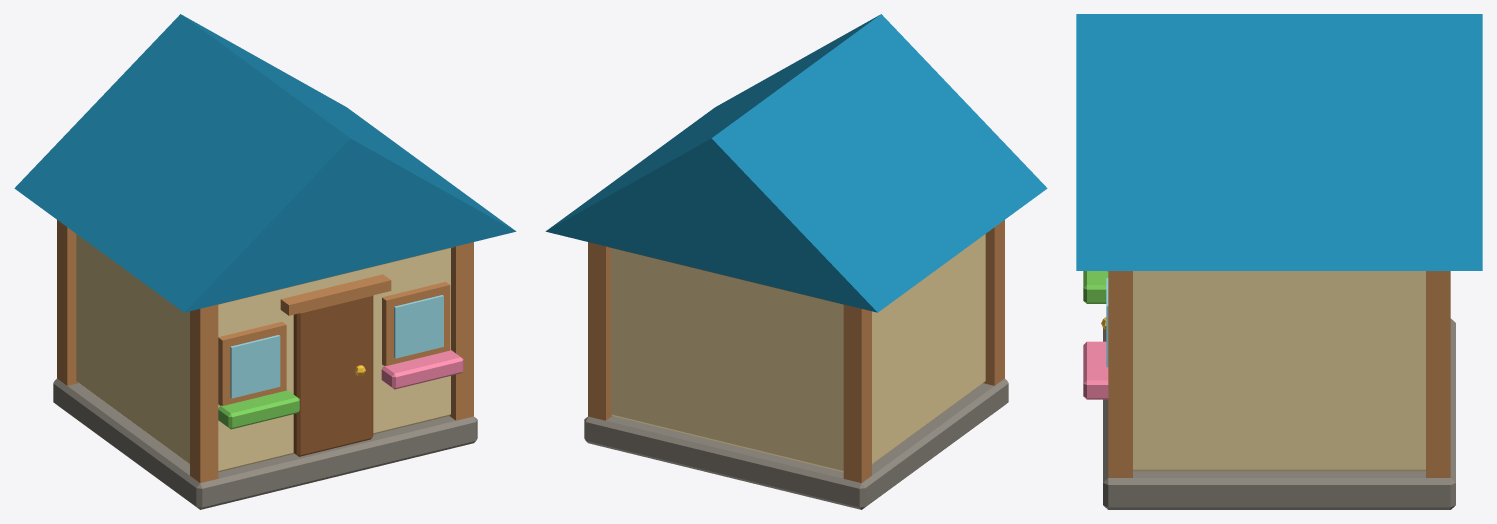
File: house_b.glb
The picture shows the model from 3 angles, left to right: view 1: azimuth 30°, elevation 25°; view 2: azimuth 150°, elevation 25°; view 3: azimuth 270°, elevation 25°; orthographic projection. The views are drawn at different scales.
Parts seen in each view (by area): view 1: house_b; view 2: house_b; view 3: house_b.
Part boxes in pixels (x1=…): house_b: x1=14, y1=14, x2=516, y2=509; house_b: x1=545, y1=14, x2=1047, y2=509; house_b: x1=1076, y1=14, x2=1482, y2=509.
Size of the model in its own units: 2.6 by 2.6 by 2.3.
